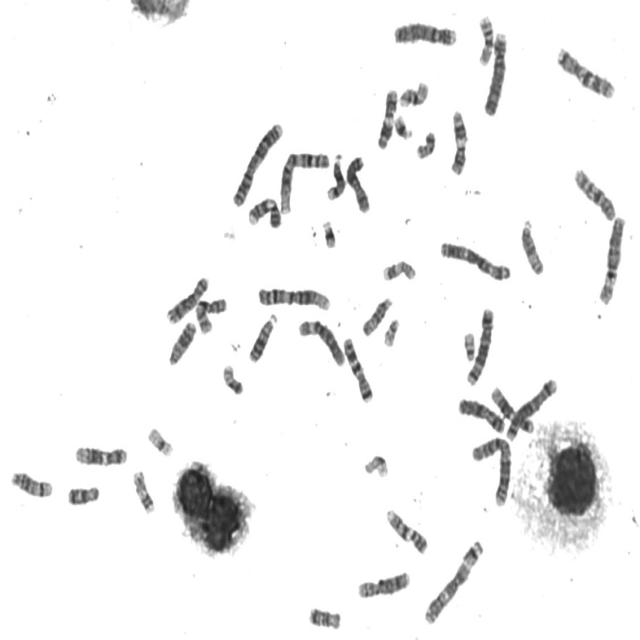A1: (277, 148, 331, 216), (256, 282, 332, 313)
A2: (230, 118, 285, 208), (468, 432, 514, 508)
A3: (422, 535, 486, 626), (437, 237, 513, 283)
B4: (481, 27, 509, 117), (392, 18, 458, 48)
B5: (504, 375, 559, 443), (464, 304, 495, 388)
C10: (571, 164, 618, 223), (193, 293, 229, 336)
C11: (375, 85, 399, 151), (448, 106, 469, 177)
C12: (489, 383, 536, 435), (72, 442, 129, 468)
C6: (596, 212, 628, 306), (296, 316, 346, 368)
C7: (554, 42, 618, 101), (341, 334, 375, 404)
C8: (164, 272, 211, 326), (355, 568, 411, 600)
C9: (384, 505, 429, 556), (246, 193, 282, 230)
D13: (246, 310, 278, 365), (166, 318, 197, 368)
D14: (8, 467, 54, 499), (324, 150, 346, 202)
D15: (518, 215, 546, 276), (360, 293, 395, 338)
E16: (475, 11, 496, 67), (397, 77, 430, 109)
E17: (130, 467, 156, 516), (380, 256, 418, 282)
E18: (306, 603, 342, 631), (65, 482, 101, 508)
F19: (144, 424, 174, 458), (362, 451, 389, 479)
F20: (220, 361, 244, 396), (414, 127, 437, 160)
G21: (392, 112, 414, 141), (320, 217, 338, 250)
G22: (381, 314, 401, 348), (461, 328, 478, 363)
X: (456, 394, 506, 435), (344, 152, 372, 215)
